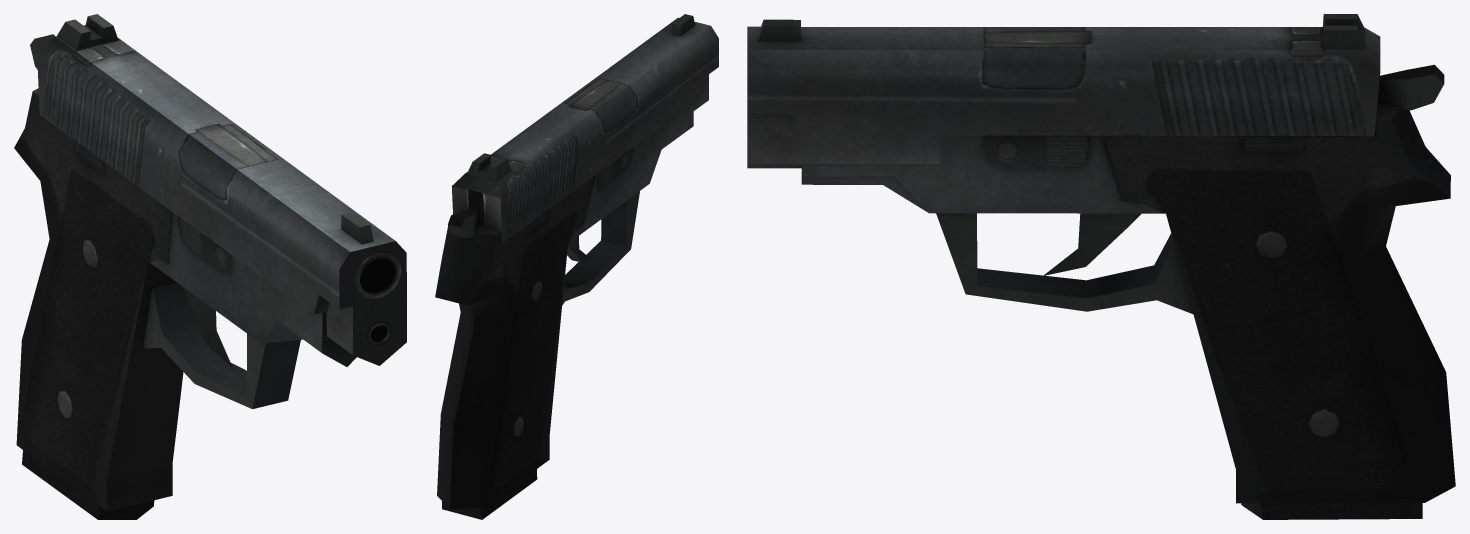
3 renders of one model, left to right at view 1: azimuth 30°, elevation 25°; view 2: azimuth 150°, elevation 25°; view 3: azimuth 270°, elevation 25°, orthographic. The views are drawn at different scales.
Visible parts, largest first — view 1: SMDImporter.Mesh.w_pist_p228; view 2: SMDImporter.Mesh.w_pist_p228; view 3: SMDImporter.Mesh.w_pist_p228.
Part boxes in pixels (<box>): SMDImporter.Mesh.w_pist_p228: <box>14,14,406,519</box>; SMDImporter.Mesh.w_pist_p228: <box>435,14,718,519</box>; SMDImporter.Mesh.w_pist_p228: <box>747,14,1455,519</box>.
Bounding box in the file's own units: 2.33 × 15.2 × 20.16.
